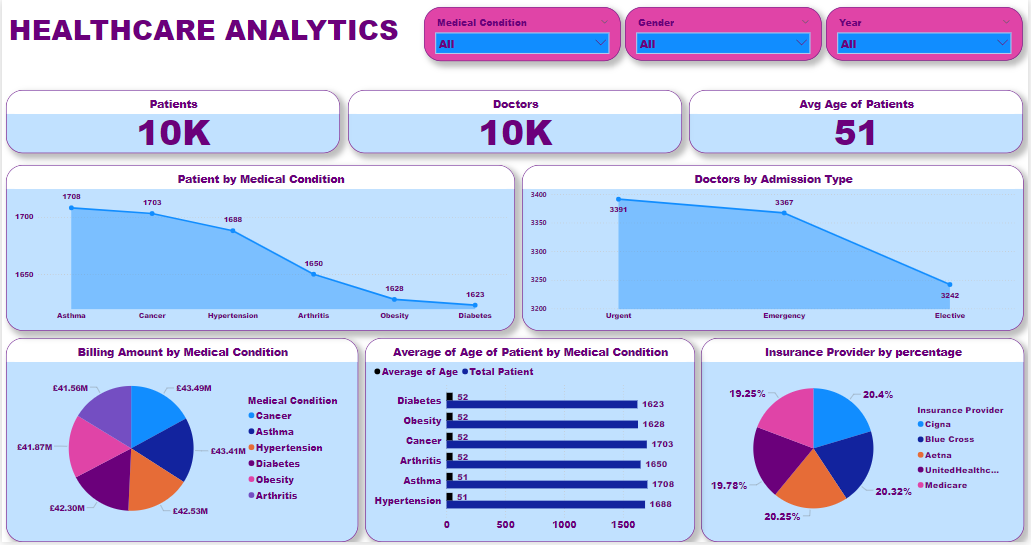

The page's visual inventory and layout, read from the dashboard file:
{"tool":"powerbi","page":{"name":"Health Data","canvas":[1800,950],"ordinal":1},"visuals":[{"type":"pieChart","title":"Billing Amount by Medical Condition","fields":{"Category":["healthcare_dataset.Medical Condition"],"Y":["Sum(healthcare_dataset.Billing Amount)"]},"box":[7.3,592.7,618.2,358.2],"z":0},{"type":"pieChart","title":" Insurance Provider by percentage","fields":{"Y":["healthcare_dataset.Total Patient"],"Category":["healthcare_dataset.Insurance Provider"]},"box":[1225.5,592.7,567.3,358.2],"z":1000},{"type":"areaChart","title":"Patient by Medical Condition","fields":{"Category":["healthcare_dataset.Medical Condition"],"Y":["healthcare_dataset.Total Patient"]},"box":[7.3,289.1,892.7,290.9],"z":2000},{"type":"clusteredBarChart","title":"Average of Age of Patient by Medical Condition","fields":{"Y":["Avg(healthcare_dataset.Age)","healthcare_dataset.Total Patient"],"Category":["healthcare_dataset.Medical Condition"]},"box":[636.8,592.1,578.9,357.9],"z":3000},{"type":"areaChart","title":"Doctors by Admission Type","fields":{"Category":["healthcare_dataset.Admission Type"],"Y":["healthcare_dataset.Total Doctors"]},"box":[912.7,289.1,880,290.9],"z":4000},{"type":"card","title":"Patients","fields":{"Values":["healthcare_dataset.Total Patient"]},"box":[7,157.9,586,110.5],"z":5000},{"type":"card","title":"Doctors","fields":{"Values":["healthcare_dataset.Total Doctors"]},"box":[607,157.9,586,110.5],"z":6000},{"type":"card","title":"Avg Age of Patients","fields":{"Values":["Avg(healthcare_dataset.Age)"]},"box":[1205.3,157.9,586,110.5],"z":7000},{"type":"slicer","fields":{"Values":["healthcare_dataset.Medical Condition"]},"box":[740,12.7,345.5,94.5],"z":8000},{"type":"slicer","fields":{"Values":["healthcare_dataset.Gender"]},"box":[1092.7,12.7,345,94],"z":9000},{"type":"slicer","fields":{"Values":["healthcare_dataset.Discharge Date.Variation.Date Hierarchy.Year"]},"box":[1445.5,12.7,345,94],"z":10000},{"type":"textbox","box":[7.3,12.7,732.7,94.5],"z":11000}]}

Visuals, with their boxes in screenshot pixels (x1, y1, x2, y2), scaled from the page's 1800x950 canvas onto the 1031x545 screenshot:
"Billing Amount by Medical Condition" pieChart: 4/340/358/544
" Insurance Provider by percentage" pieChart: 702/340/1027/544
"Patient by Medical Condition" areaChart: 4/166/516/333
"Average of Age of Patient by Medical Condition" clusteredBarChart: 365/340/696/544
"Doctors by Admission Type" areaChart: 523/166/1027/333
"Patients" card: 4/91/340/154
"Doctors" card: 348/91/683/154
"Avg Age of Patients" card: 690/91/1026/154
slicer - healthcare_dataset.Medical Condition: 424/7/622/61
slicer - healthcare_dataset.Gender: 626/7/823/61
slicer - healthcare_dataset.Discharge Date.Variation.Date Hierarchy.Year: 828/7/1026/61
textbox: 4/7/424/61
